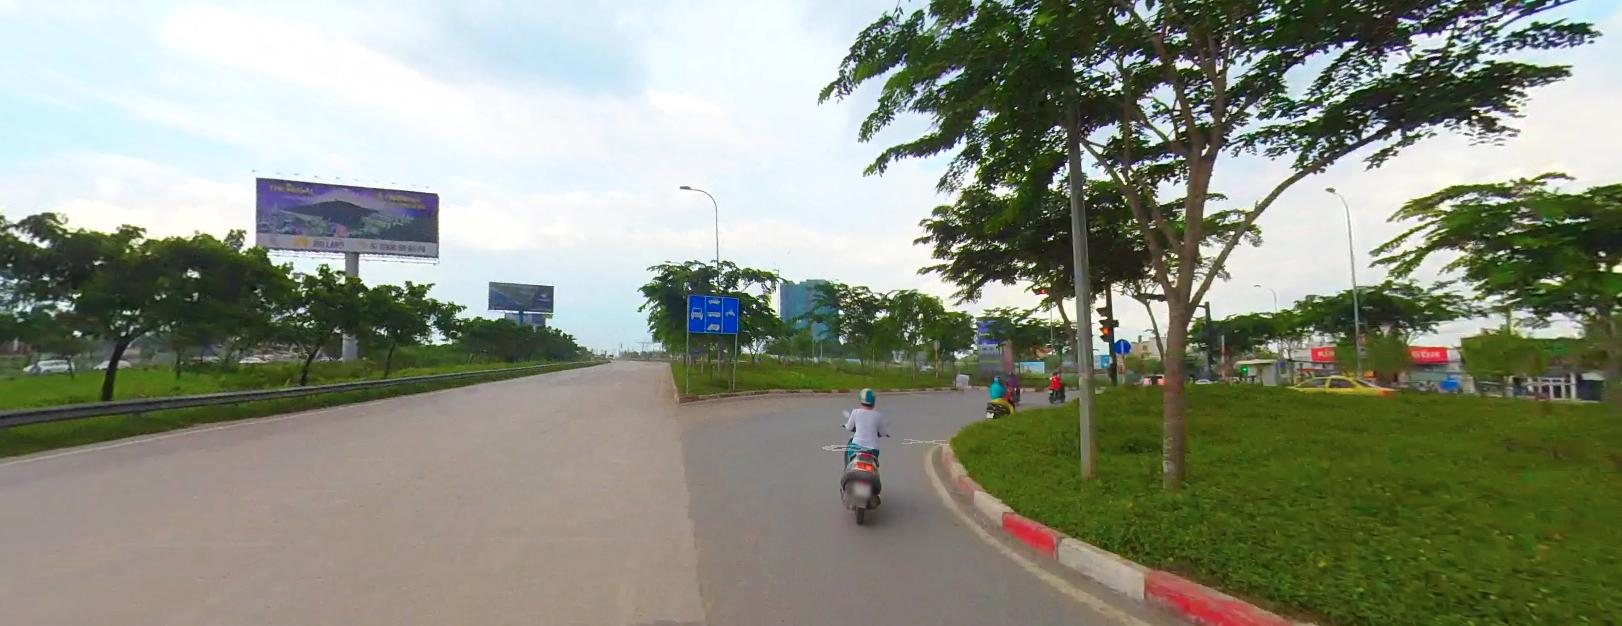Hieu lenh: (1113, 335, 1130, 353)
